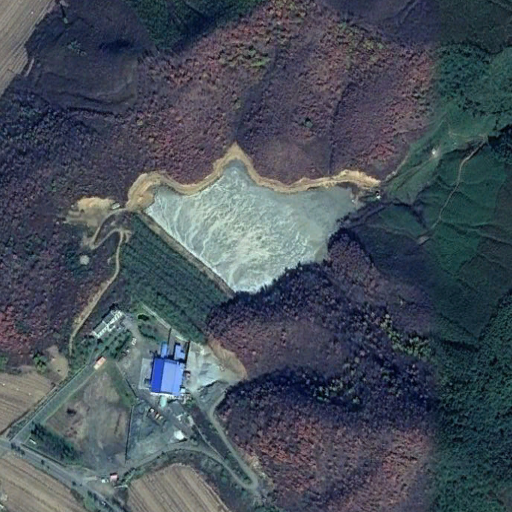tp: (122, 153, 375, 329)
